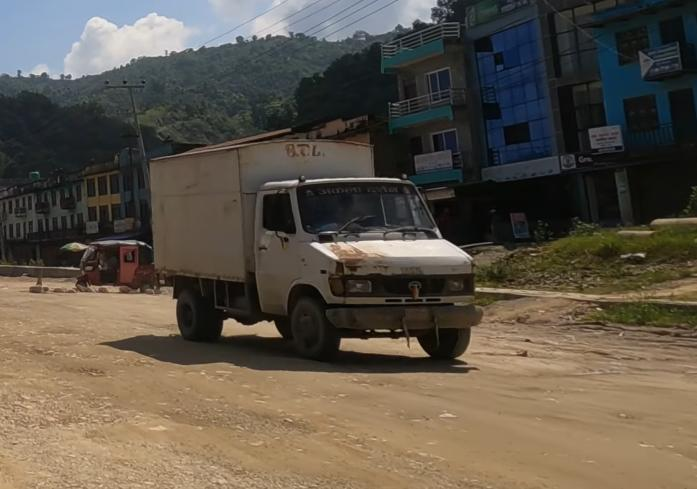auto_rickshaw: (67, 230, 170, 298)
mini_truck: (144, 122, 489, 371)
